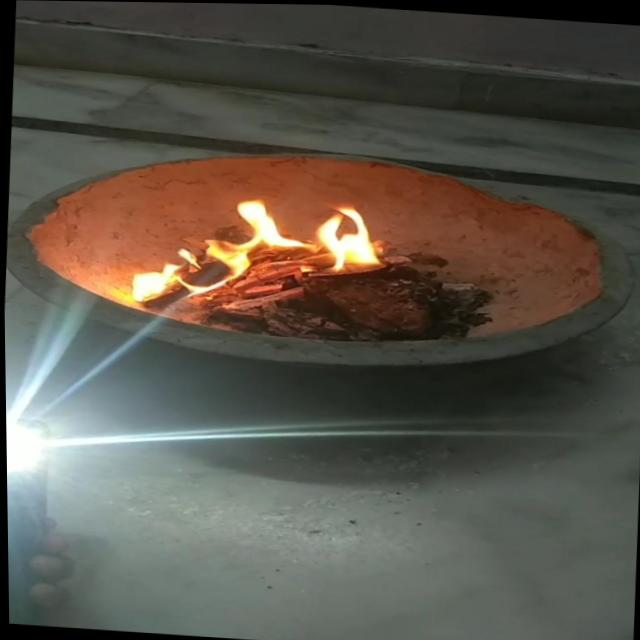fire: (198, 191, 385, 289), (116, 246, 200, 307)
